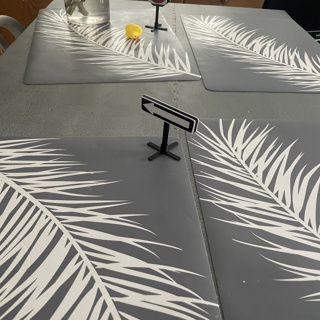sign_oneway_left: (140, 96, 193, 133)
